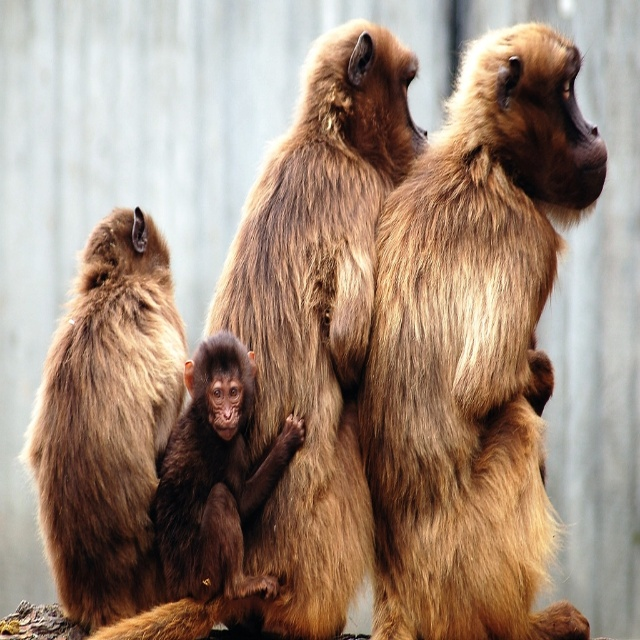Monkey: (86, 16, 430, 640), (357, 9, 608, 640), (16, 205, 189, 631), (152, 327, 305, 606)
